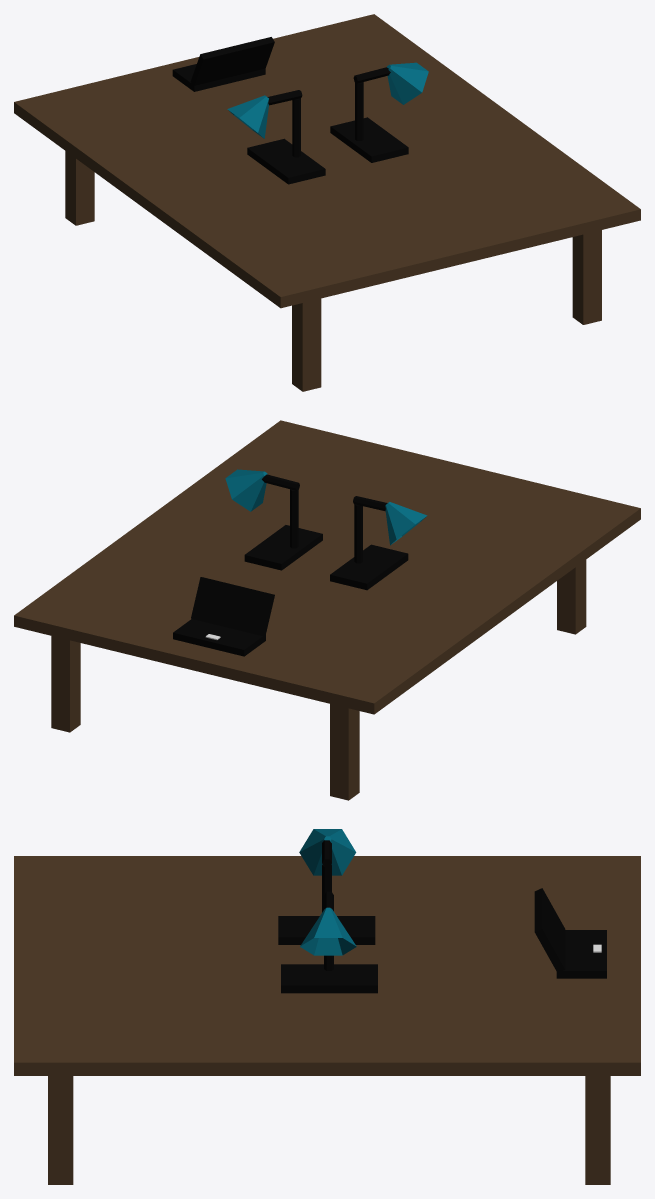
Rendered from MesaProyector.fbx.
The picture shows the model from 3 angles, top to bottom: view 1: azimuth 30°, elevation 25°; view 2: azimuth 150°, elevation 25°; view 3: azimuth 270°, elevation 25°; orthographic projection. The views are drawn at different scales.
Parts seen in each view (by area): view 1: tabla, pata abajo iz, pata arriba der.001, base lampara.005, base lampara.001, base lampara, pata arriba der, pantalla lampara, pantalla lampara.001, base lampara.004; view 2: tabla, base lampara.005, pata abajo der, pata arriba der, base lampara.001, base lampara.004, base lampara, pata arriba der.001, pantalla lampara, pantalla lampara.001; view 3: tabla, base lampara, pata abajo der, pata abajo iz, base lampara.004, base lampara.001, base lampara.005, pantalla lampara.001, pantalla lampara.
Part boxes in pixels (bbox=[...]): tabla: bbox=[14, 14, 640, 308]; pata abajo iz: bbox=[572, 230, 601, 324]; pata arriba der.001: bbox=[292, 298, 321, 391]; base lampara.005: bbox=[190, 37, 274, 85]; base lampara.001: bbox=[247, 138, 325, 184]; base lampara: bbox=[330, 117, 408, 162]; pata arriba der: bbox=[65, 151, 94, 225]; pantalla lampara: bbox=[387, 62, 428, 104]; pantalla lampara.001: bbox=[227, 95, 268, 138]; base lampara.004: bbox=[172, 64, 265, 91]; tabla: bbox=[14, 420, 640, 714]; base lampara.005: bbox=[191, 577, 274, 636]; pata abajo der: bbox=[51, 636, 80, 732]; pata arriba der: bbox=[330, 704, 359, 800]; base lampara.001: bbox=[330, 544, 408, 590]; base lampara.004: bbox=[173, 619, 265, 656]; base lampara: bbox=[244, 525, 322, 570]; pata arriba der.001: bbox=[557, 560, 586, 634]; pantalla lampara: bbox=[225, 469, 267, 511]; pantalla lampara.001: bbox=[385, 502, 427, 545]; tabla: bbox=[14, 856, 640, 1075]; base lampara: bbox=[281, 964, 377, 993]; pata abajo der: bbox=[585, 1076, 610, 1184]; pata abajo iz: bbox=[48, 1076, 73, 1184]; base lampara.004: bbox=[556, 930, 606, 978]; base lampara.001: bbox=[278, 916, 375, 944]; base lampara.005: bbox=[534, 888, 565, 972]; pantalla lampara.001: bbox=[299, 829, 356, 875]; pantalla lampara: bbox=[300, 907, 356, 955].
Size of the model in its own units: 12.33 by 6.24 by 15.81.
Materials: 9 (2 with a texture image).
